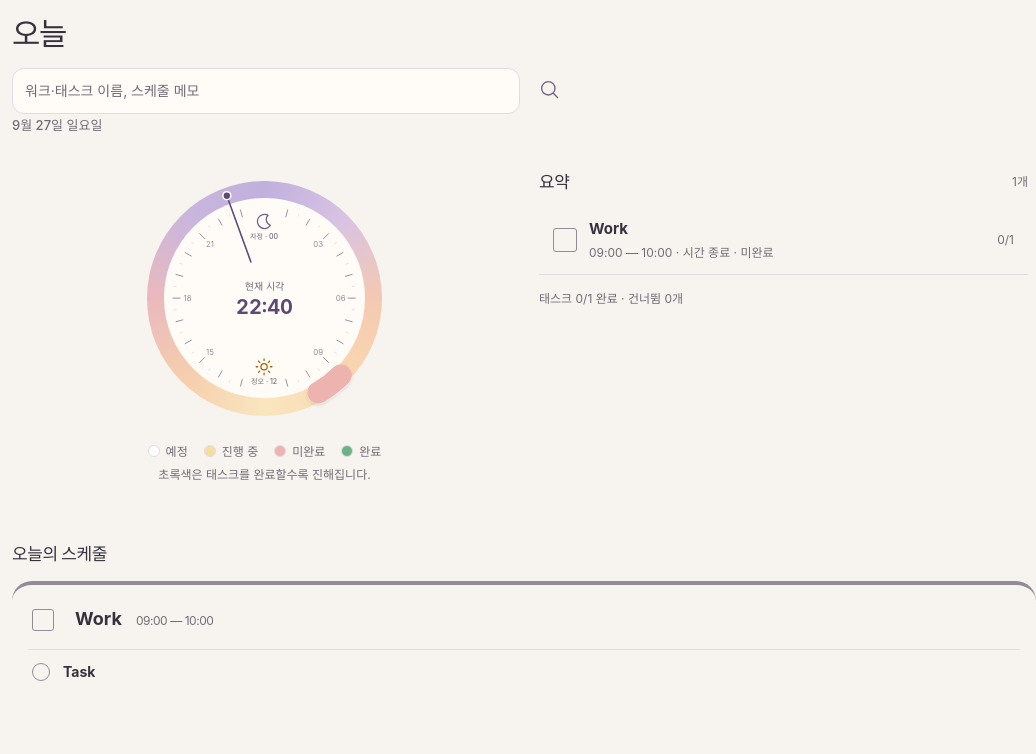
Test: today preserves unchecked state on required-value failure
Click the button with aria-label "Work 모든 태스크 완료": click(609, 229) [539, 205, 1028, 275]
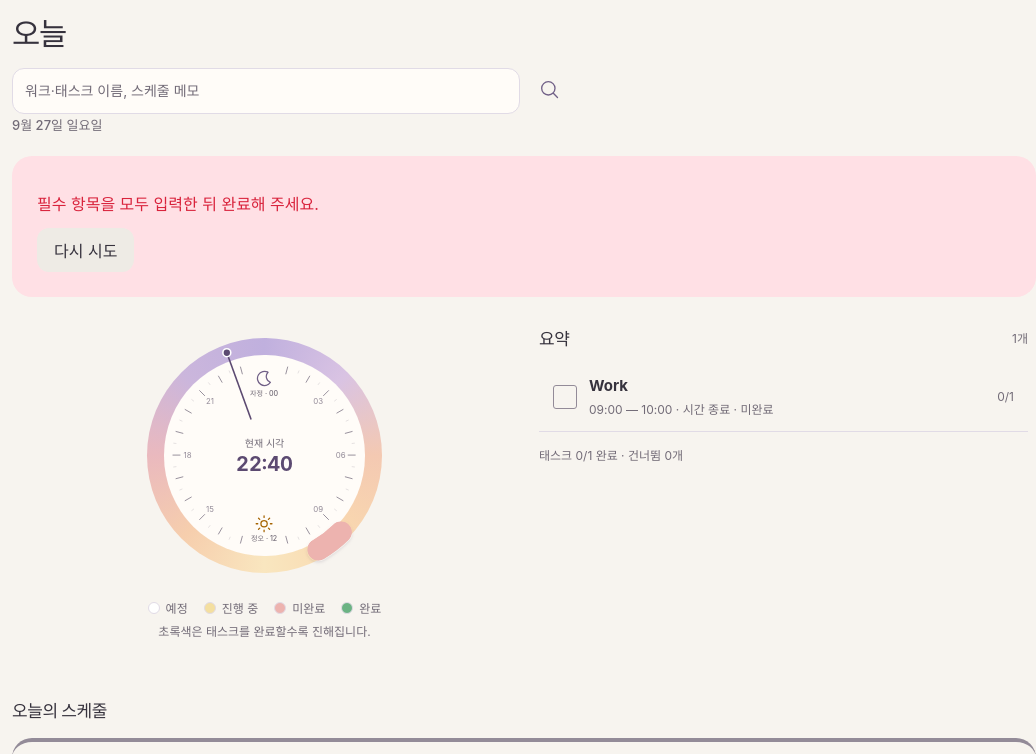
Check: the message shows "필수 항목", box [37, 194, 319, 214]
